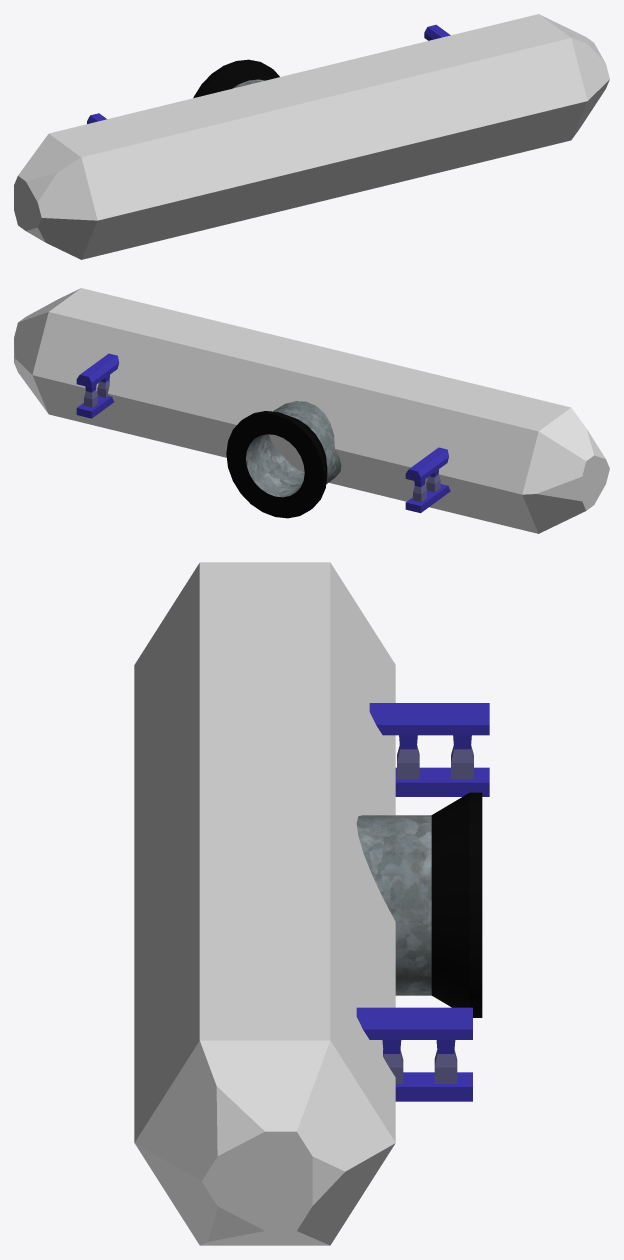
Rendered from FuelDepot.fbx.
The picture shows the model from 3 angles, top to bottom: view 1: azimuth 30°, elevation 25°; view 2: azimuth 150°, elevation 25°; view 3: azimuth 270°, elevation 25°; orthographic projection. The views are drawn at different scales.
Parts seen in each view (by area): view 1: mergedBlocks; view 2: mergedBlocks; view 3: mergedBlocks.
Part boxes in pixels (bbox=[...]): mergedBlocks: bbox=[14, 14, 609, 259]; mergedBlocks: bbox=[14, 288, 609, 533]; mergedBlocks: bbox=[134, 562, 489, 1245].
Size of the model in its own units: 58 by 11 by 15.69.
